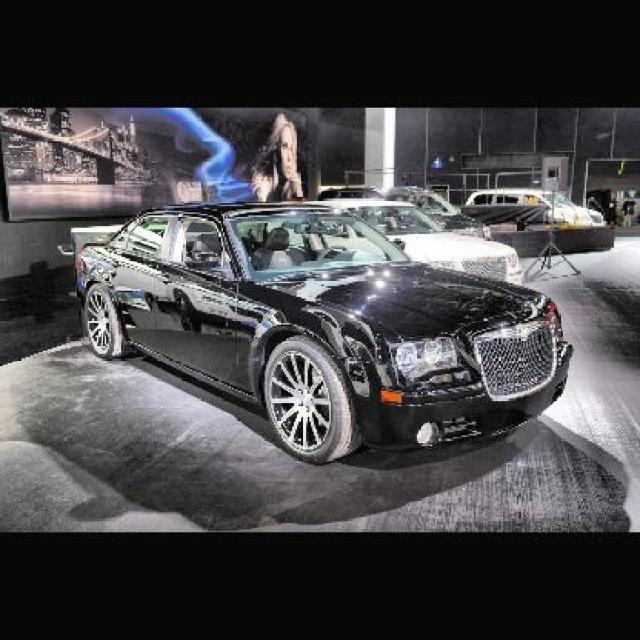black: (75, 189, 578, 448)
